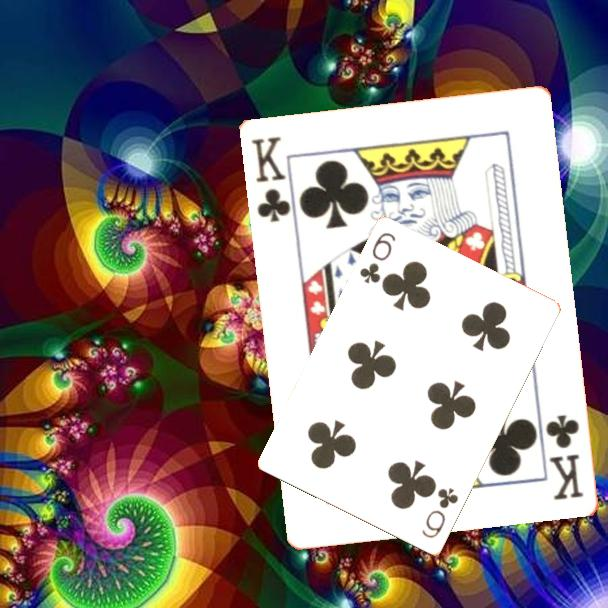c06: (418, 485, 462, 542), (356, 229, 399, 287)
c13: (248, 133, 294, 226), (542, 411, 587, 504)
